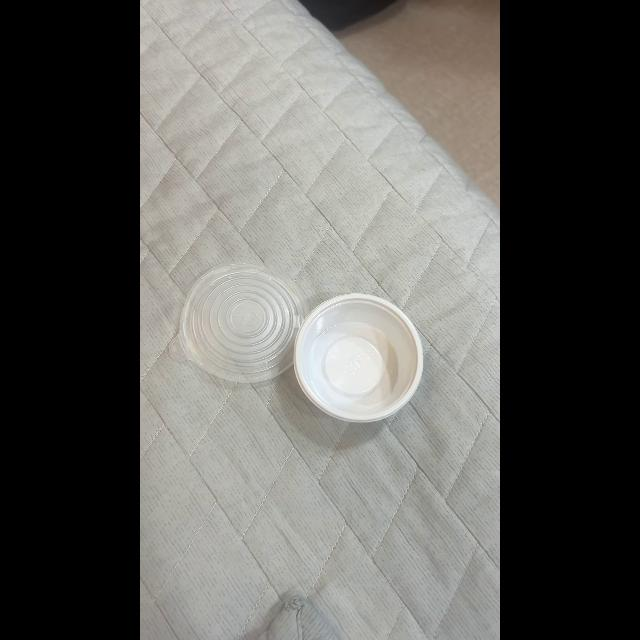clean: (182, 255, 432, 435)
